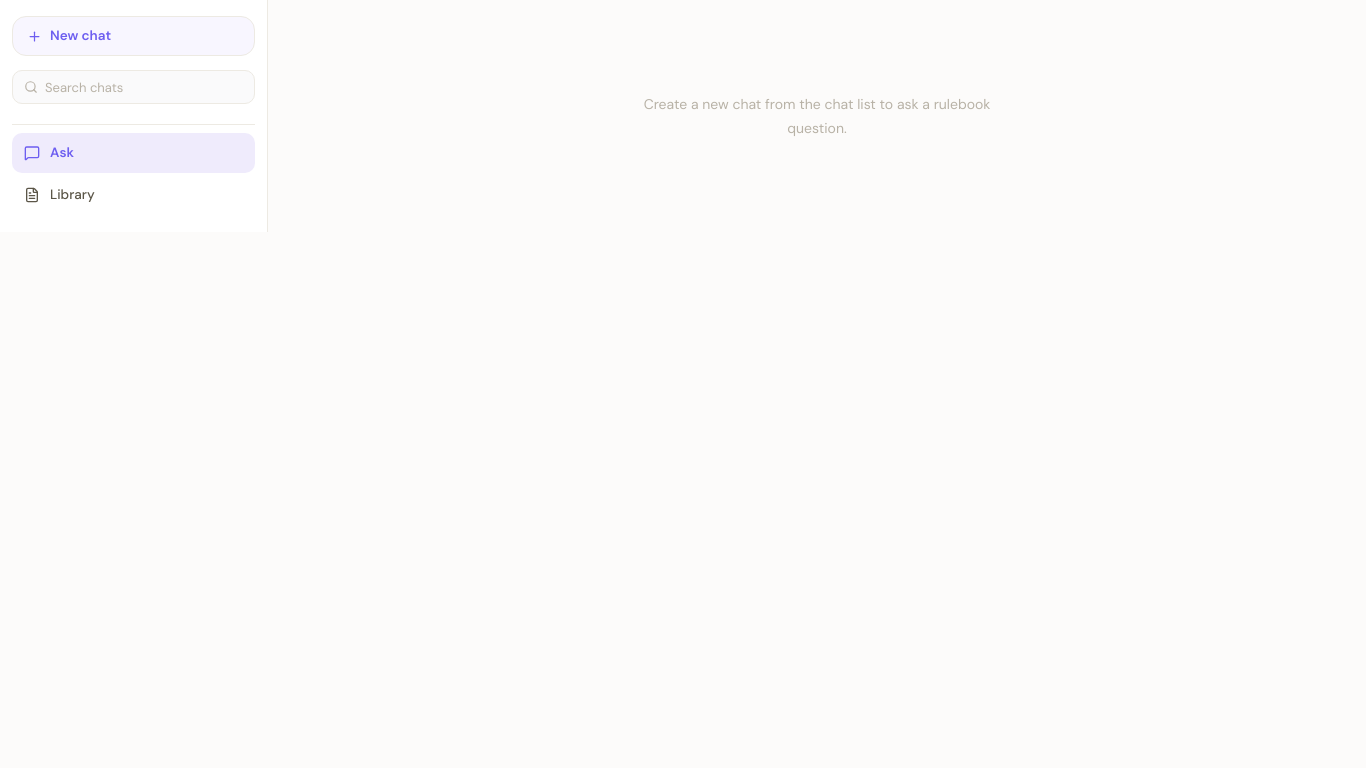
ChatPage › merges a chat created while the initial list is pending
Click the button with test id "ask-new-chat-btn".
click(134, 36)  # box [12,16,255,56]
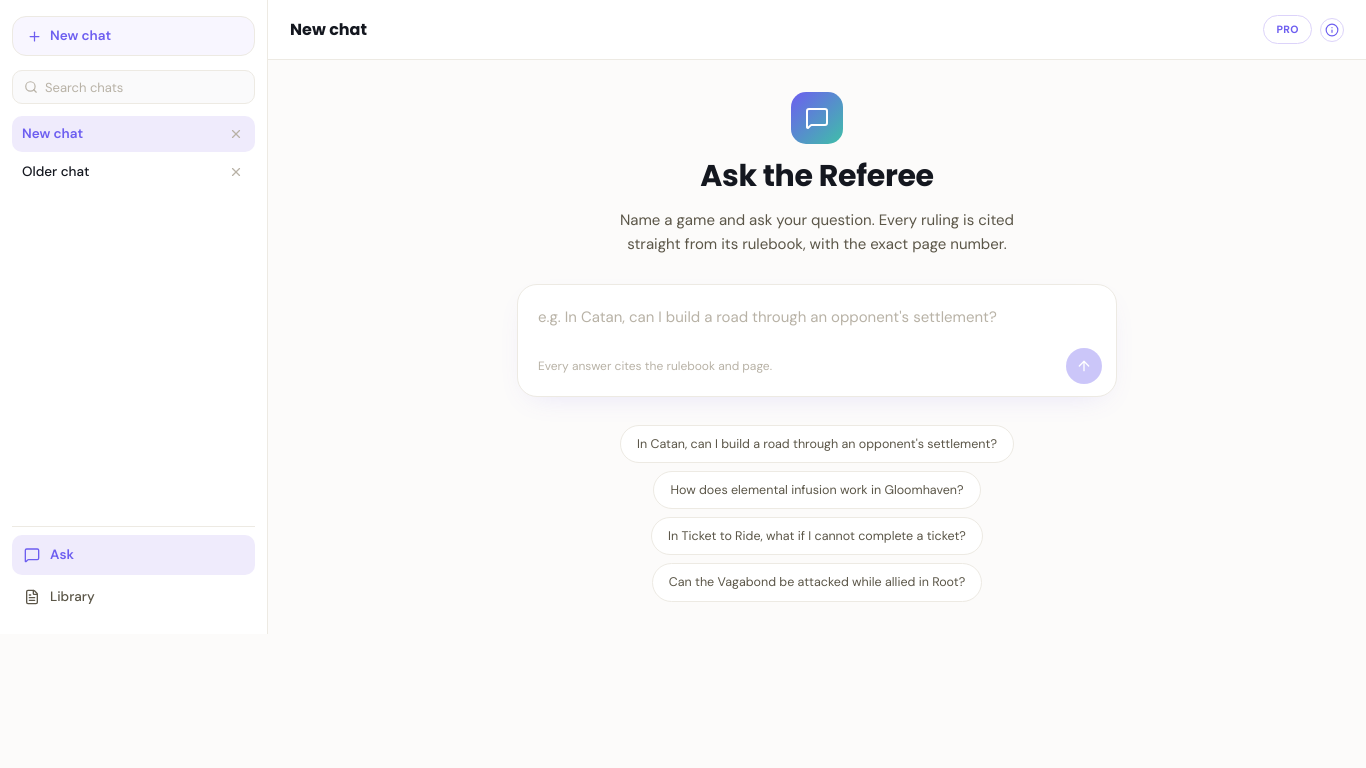
Result: the text "Older chat" is shown at [22,163,89,180]
Result: the heading "Ask the Referee" is shown at [700,158,934,196]
